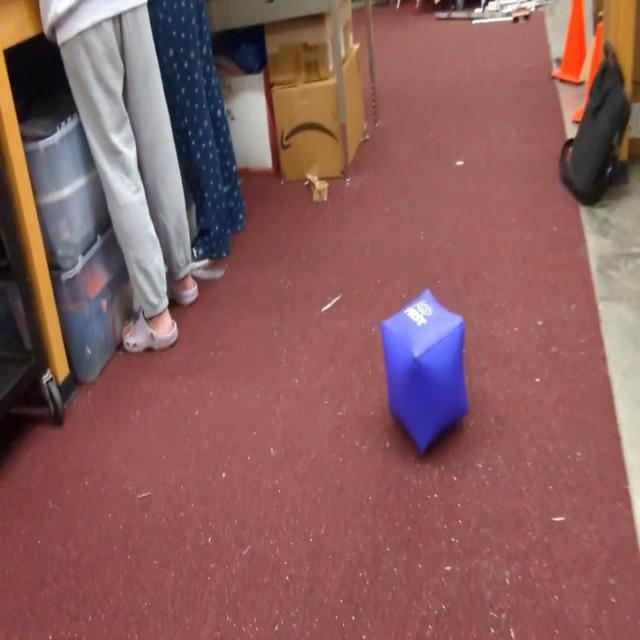frc_cube: (380, 289, 470, 456)
